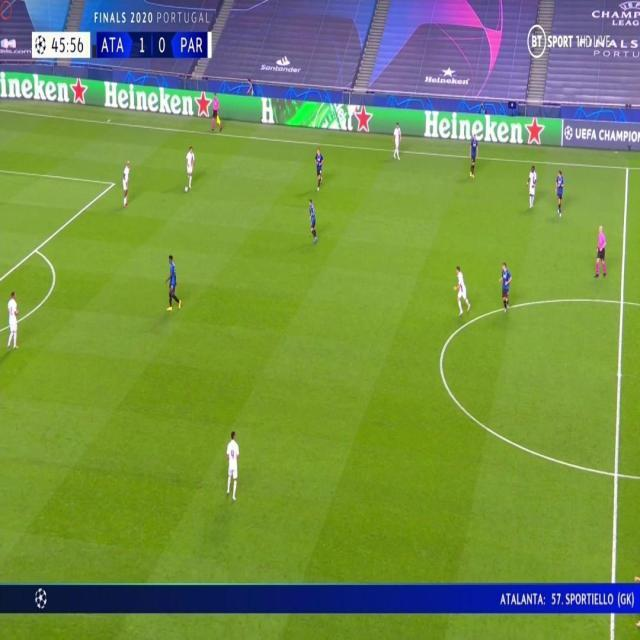ball: (183, 184, 190, 195)
player: (225, 426, 241, 502), (163, 253, 182, 312), (5, 286, 20, 354), (453, 262, 471, 313), (498, 257, 513, 315), (119, 156, 132, 207), (184, 142, 196, 191), (554, 167, 566, 216), (306, 196, 318, 244), (468, 132, 480, 178), (526, 163, 538, 208), (391, 117, 403, 160), (313, 145, 325, 188)
referee: (594, 222, 608, 279), (209, 93, 221, 133)
